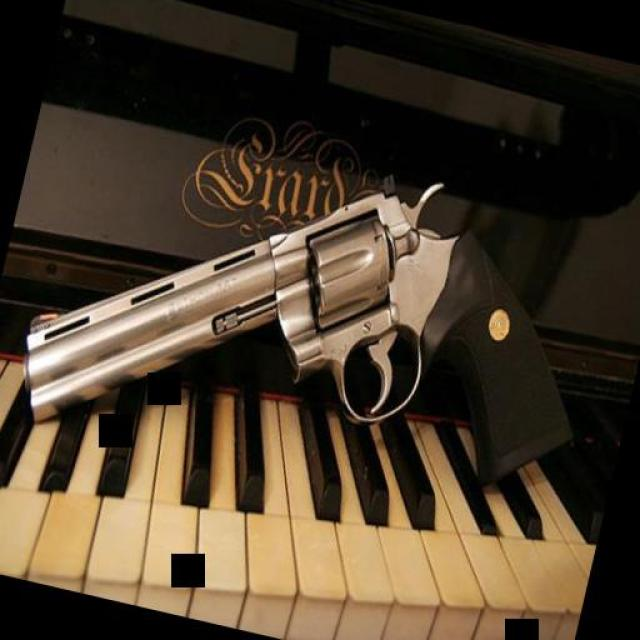gun: (6, 96, 622, 540)
